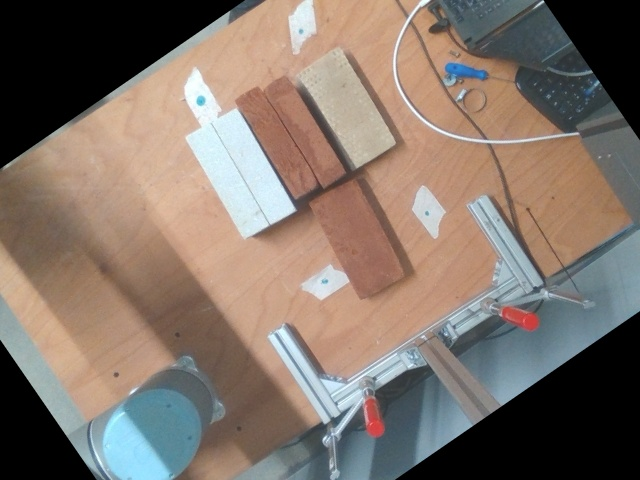brick: (299, 46, 396, 165), (311, 176, 403, 296)
brick-side: (211, 106, 295, 223), (186, 122, 270, 239), (262, 74, 347, 187), (234, 85, 319, 198)
